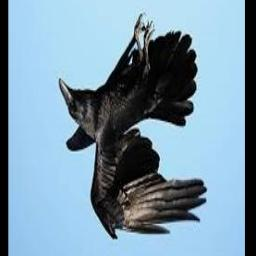Crow: (60, 13, 208, 242)
